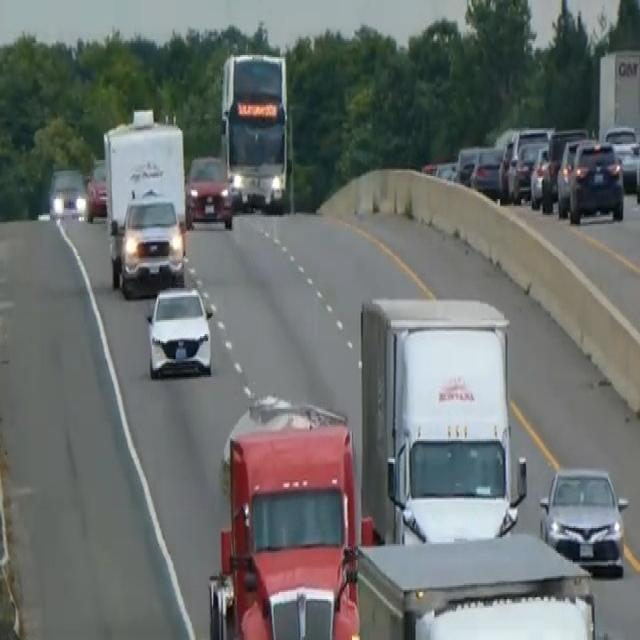bus: (218, 50, 289, 212)
car: (538, 462, 629, 578), (144, 279, 215, 381), (568, 135, 625, 224), (184, 151, 234, 229), (604, 122, 639, 194), (555, 135, 586, 215), (511, 137, 547, 203), (48, 166, 87, 220), (470, 144, 506, 197), (528, 142, 552, 208), (83, 160, 108, 222), (454, 142, 486, 185), (634, 137, 639, 206)
jeep: (111, 190, 186, 295)
lorry: (359, 292, 527, 546), (207, 393, 371, 638)
